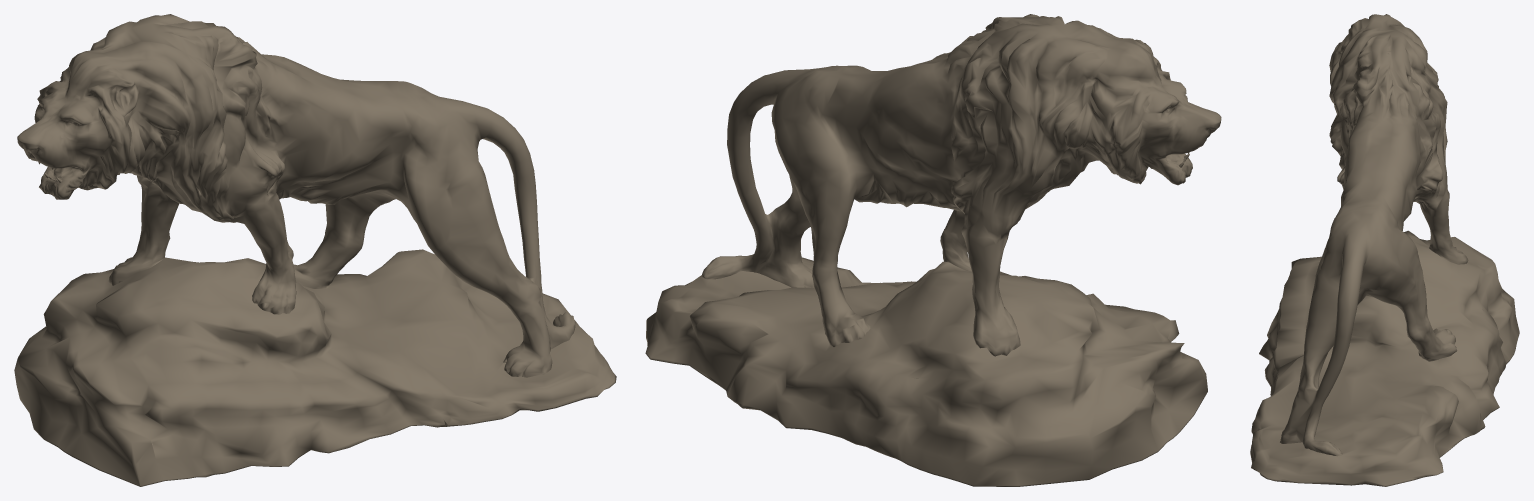
File: Lion.FBX
3 views of the same model, side by side, from view 1: azimuth 30°, elevation 25°; view 2: azimuth 150°, elevation 25°; view 3: azimuth 270°, elevation 25° (orthographic). The views are drawn at different scales.
Parts seen in each view (by area): view 1: lion_4_by_doubleagent2005; view 2: lion_4_by_doubleagent2005; view 3: lion_4_by_doubleagent2005.
Part boxes in pixels (x1,y1,x2,y2): lion_4_by_doubleagent2005: (14,14,616,486); lion_4_by_doubleagent2005: (645,14,1221,486); lion_4_by_doubleagent2005: (1250,14,1519,486).
Bounding box in the file's own units: 33.1 × 22.49 × 18.16.
